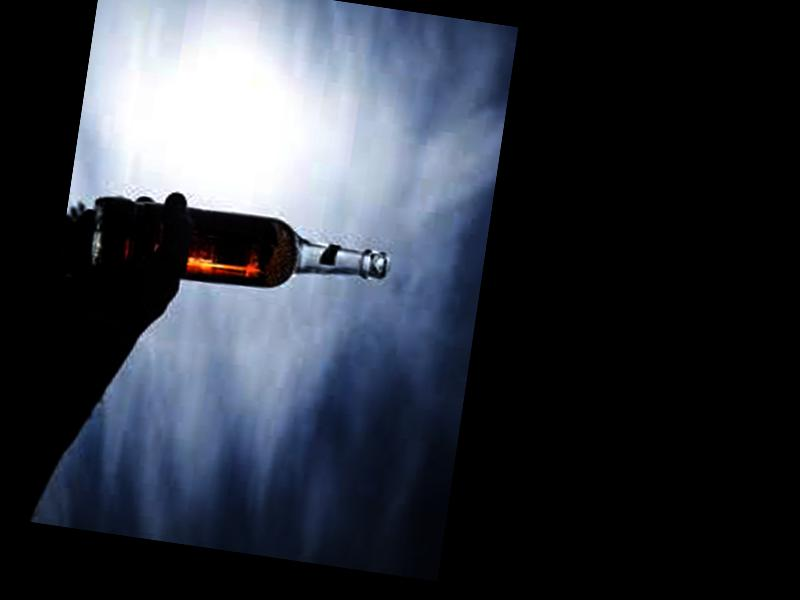Beer: (91, 197, 391, 308)
